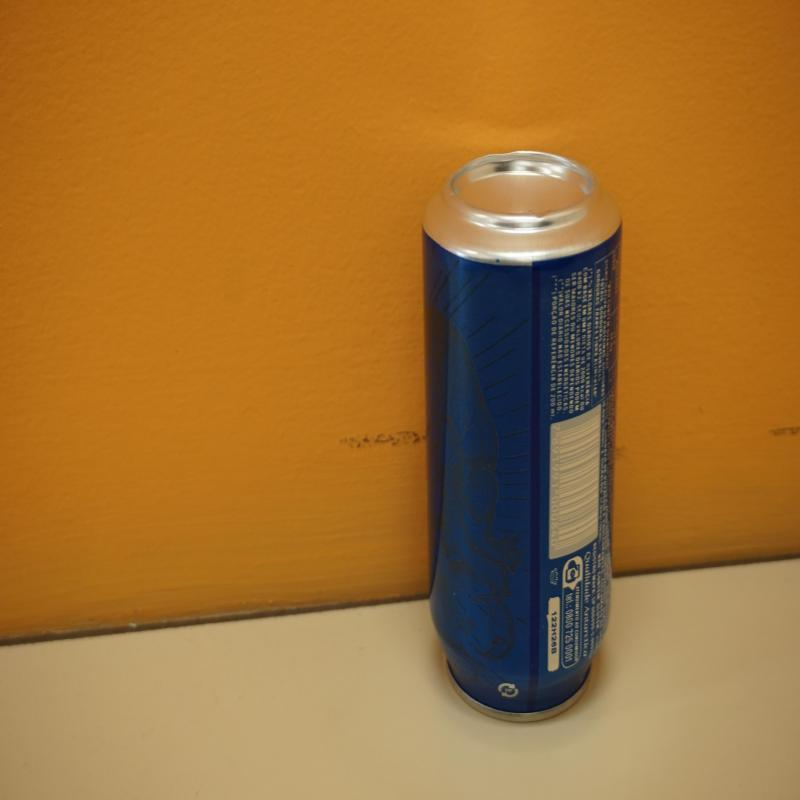Tonic: (422, 152, 622, 724)
